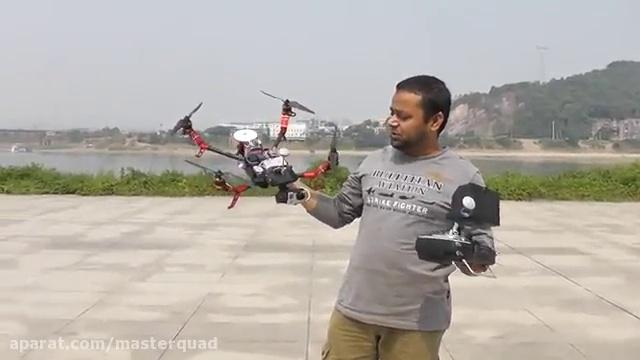drone: (162, 88, 342, 210)
